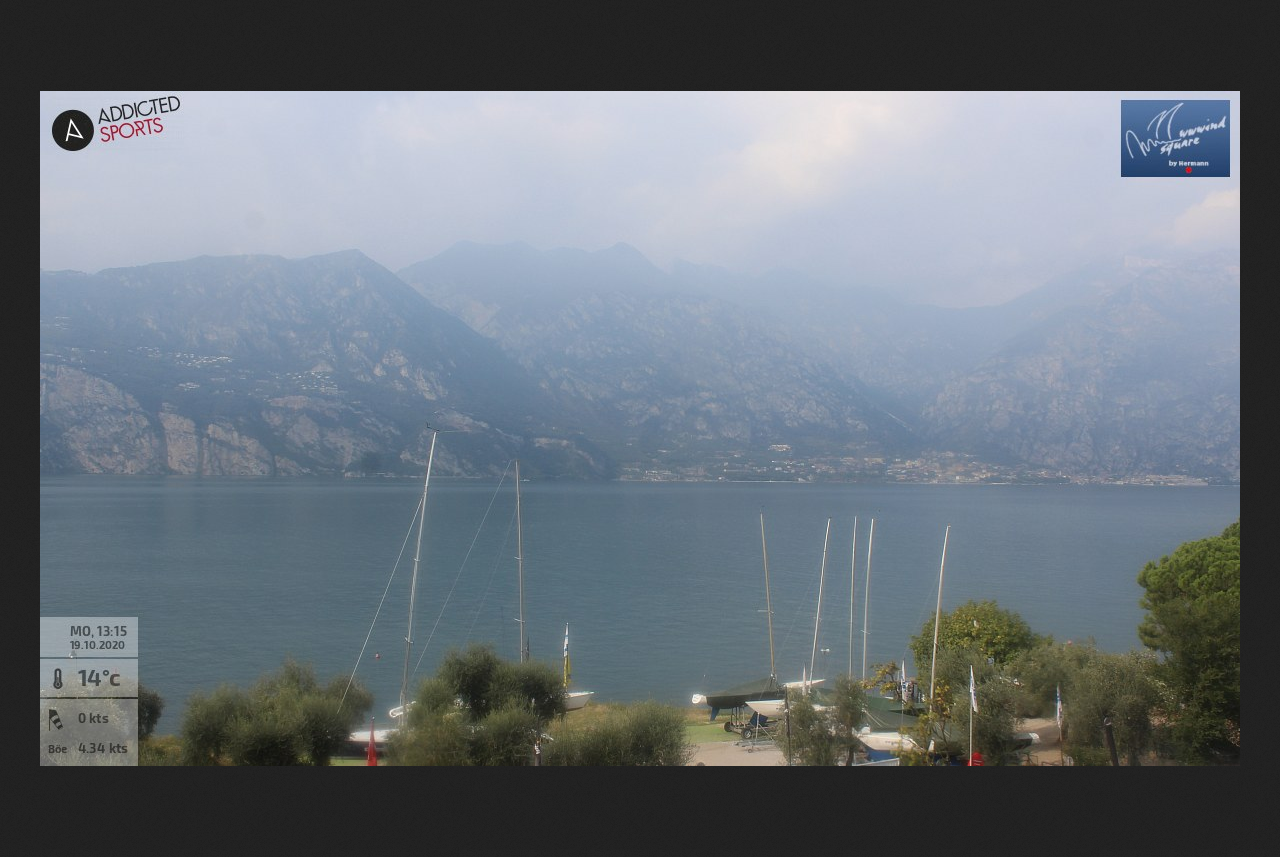no: (559, 620, 573, 693), (1054, 686, 1065, 741), (969, 668, 980, 715)
